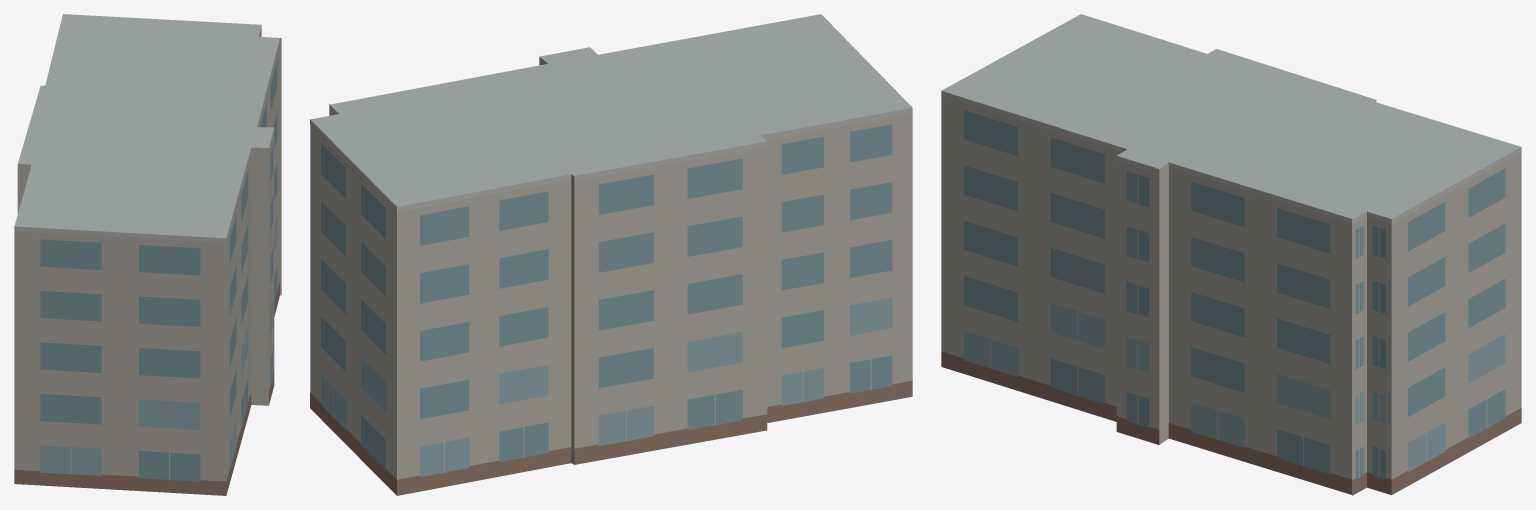
The model's file is survey-upis-32656893.glb.
3 views of the same model, side by side, from view 1: azimuth 30°, elevation 25°; view 2: azimuth 150°, elevation 25°; view 3: azimuth 270°, elevation 25° (orthographic). The views are drawn at different scales.
Visible parts, largest first — view 1: survey-upis-32656893.tmp; view 2: survey-upis-32656893.tmp; view 3: survey-upis-32656893.tmp.
Part boxes in pixels (bbox=[...]): survey-upis-32656893.tmp: bbox=[14, 14, 281, 495]; survey-upis-32656893.tmp: bbox=[310, 14, 912, 495]; survey-upis-32656893.tmp: bbox=[941, 14, 1521, 495].
Bounding box in the file's own units: 21.6 × 13.5 × 25.73.
